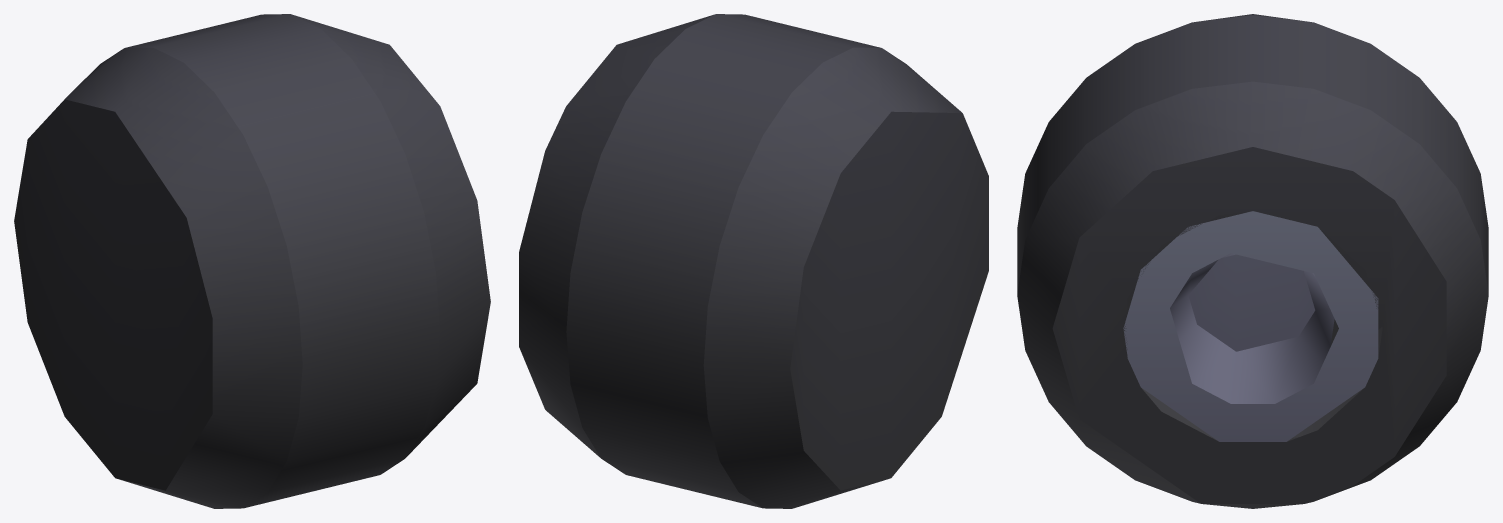
The model's file is cc0-wheel-lod1.glb.
The picture shows the model from 3 angles, left to right: view 1: azimuth 30°, elevation 25°; view 2: azimuth 150°, elevation 25°; view 3: azimuth 270°, elevation 25°; orthographic projection.
Parts seen in each view (by area): view 1: part_0; view 2: part_0; view 3: part_0.
Part boxes in pixels (x1,y1,x2,y2): part_0: (14, 14, 490, 508); part_0: (519, 14, 988, 508); part_0: (1017, 14, 1488, 508).
Bounding box in the file's own units: 0.4 × 0.6 × 0.6.
1 material, 1 textured.
